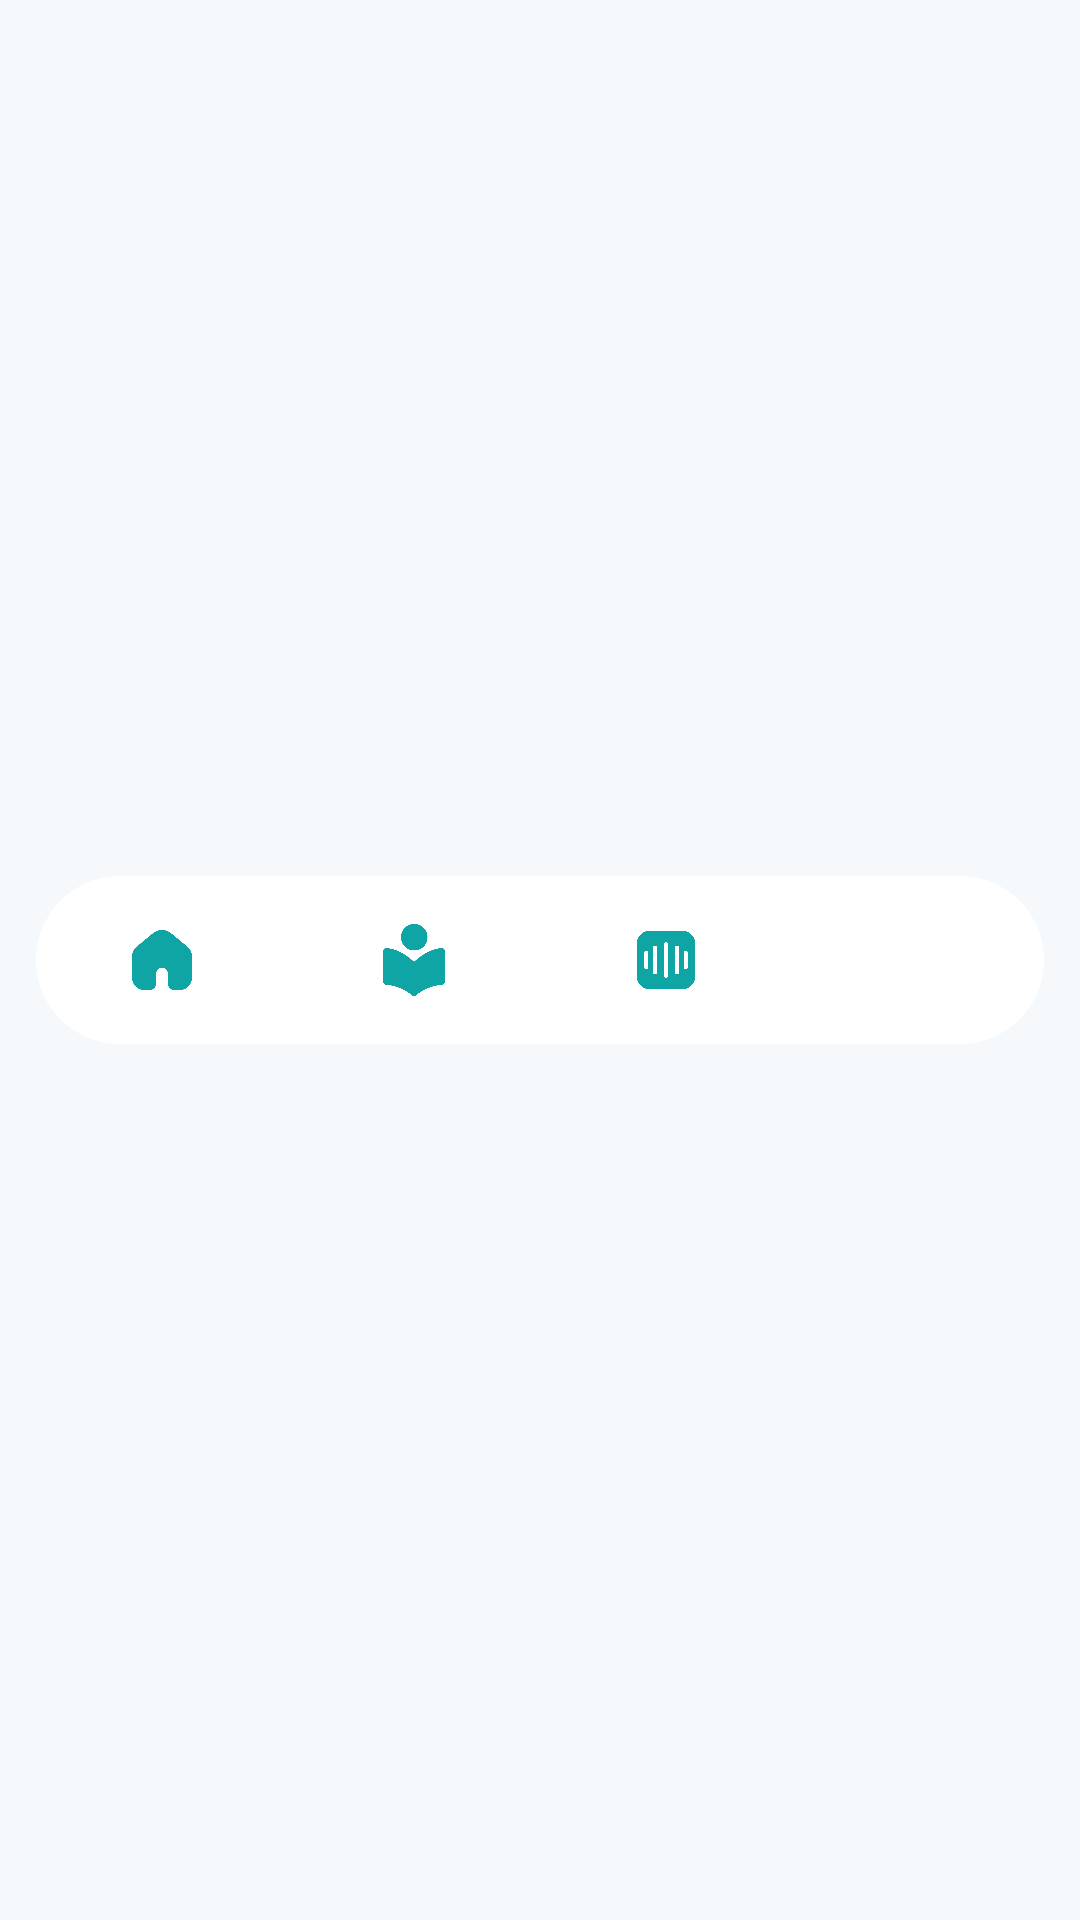

Icon click points for this 1080px x 1920px phone screenshot, format [x,y]:
home: [162,960]
learn: [414,960]
